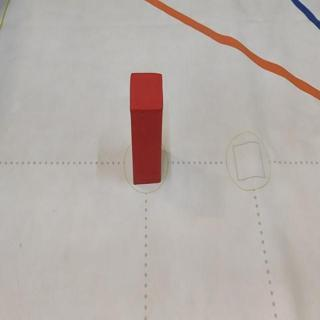redbox: (129, 71, 162, 182)
